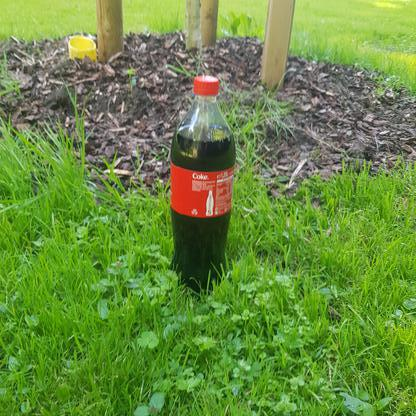coca-cola: (169, 75, 237, 297)
